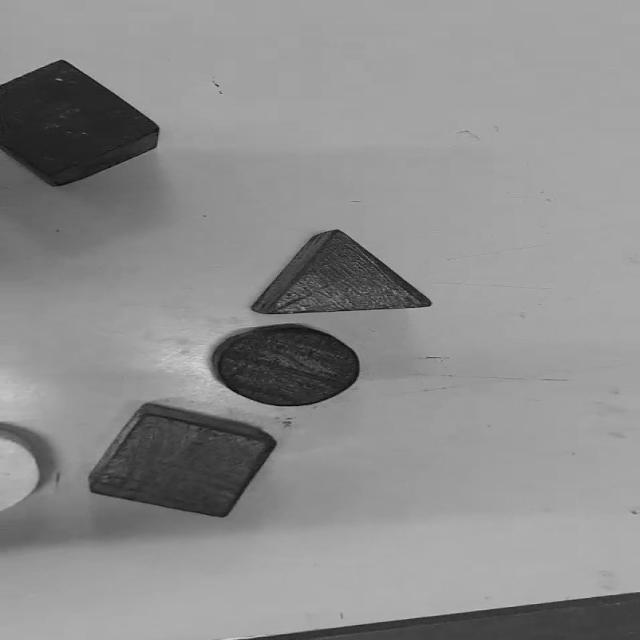bcircle: (212, 325, 359, 407)
bcube: (0, 61, 159, 186)
btriangle: (252, 230, 432, 316)
rcube: (86, 403, 279, 518)
